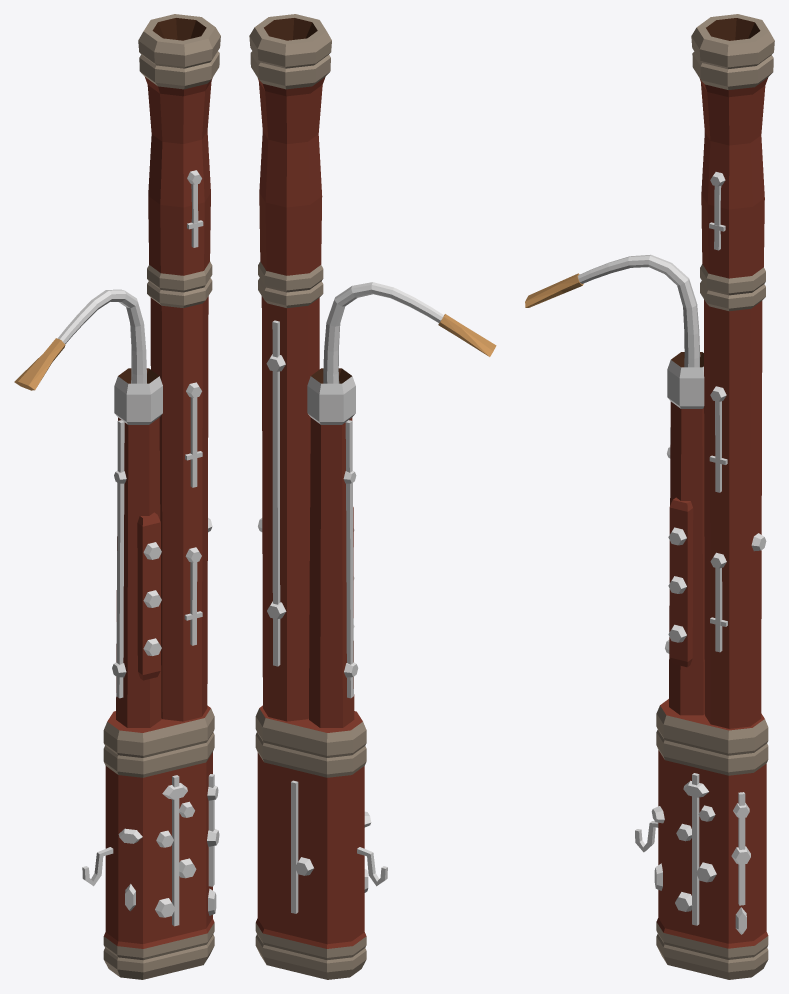
File: bassoon-224d4a.glb
3 views of the same model, side by side, from view 1: azimuth 30°, elevation 25°; view 2: azimuth 150°, elevation 25°; view 3: azimuth 330°, elevation 25° (orthographic).
Visible parts, largest first — view 1: bassoon-body, bassoon-body-metal, bocal-mesh-metal, bocal-mesh; view 2: bassoon-body, bassoon-body-metal, bocal-mesh-metal, bocal-mesh; view 3: bassoon-body, bassoon-body-metal, bocal-mesh-metal, bocal-mesh.
Part boxes in pixels (<box>): bassoon-body: <box>103,14,220,979</box>; bassoon-body-metal: <box>82,170,219,926</box>; bocal-mesh-metal: <box>58,289,146,383</box>; bocal-mesh: <box>14,338,65,390</box>; bassoon-body: <box>249,14,366,979</box>; bassoon-body-metal: <box>258,320,387,913</box>; bocal-mesh-metal: <box>323,282,443,383</box>; bocal-mesh: <box>438,314,496,356</box>; bassoon-body: <box>656,14,774,979</box>; bassoon-body-metal: <box>635,172,766,934</box>; bocal-mesh-metal: <box>578,254,700,367</box>; bocal-mesh: <box>525,273,583,307</box>.
Bounding box in the file's own units: 0.3285 × 1.35 × 0.1325.
